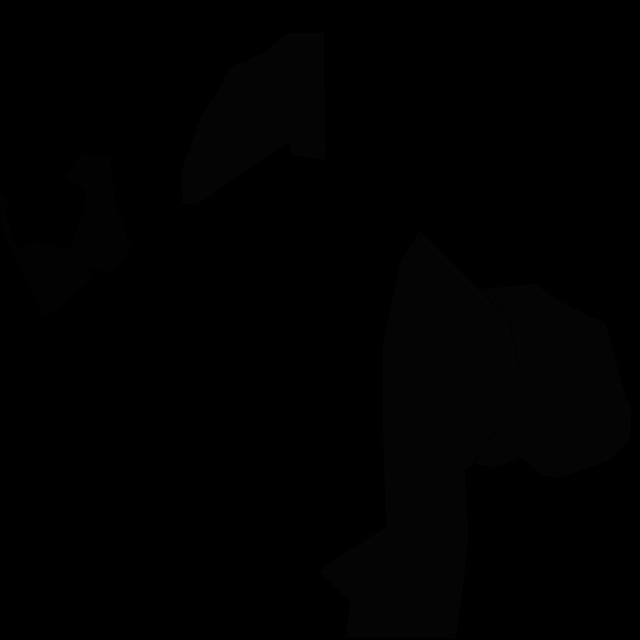cardboard: (0, 153, 132, 319)
soft_plastic: (320, 230, 523, 638), (474, 284, 632, 477), (181, 32, 325, 205)
